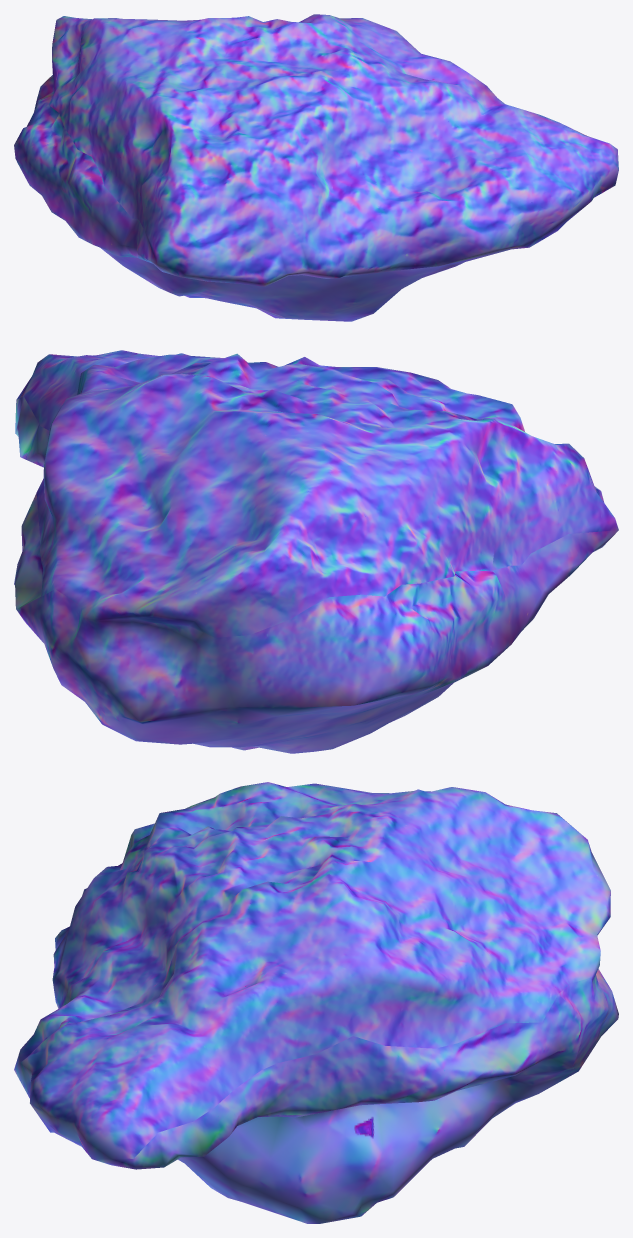
Rendered from Rock005.fbx.
3 renders of one model, top to bottom at view 1: azimuth 30°, elevation 25°; view 2: azimuth 150°, elevation 25°; view 3: azimuth 270°, elevation 25°, orthographic. The views are drawn at different scales.
Visible parts, largest first — view 1: Rock05_LOD0; view 2: Rock05_LOD0; view 3: Rock05_LOD0.
Boxes of the visible parts, <box> form: Rock05_LOD0: <box>14,14,618,321</box>; Rock05_LOD0: <box>14,350,618,753</box>; Rock05_LOD0: <box>14,782,618,1223</box>.
Bounding box in the file's own units: 95.6 × 56.62 × 91.74.
